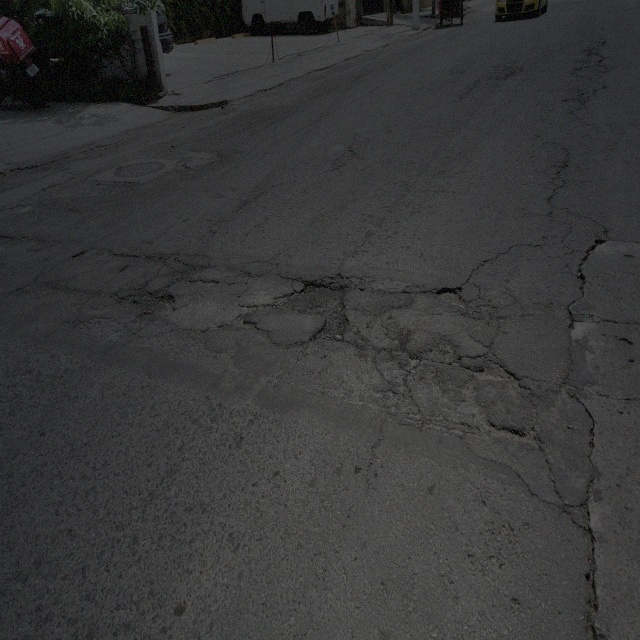pothole: (274, 278, 352, 349), (580, 508, 601, 624), (114, 287, 175, 322), (473, 354, 520, 386), (436, 281, 464, 306), (490, 426, 539, 434), (234, 320, 257, 331)
